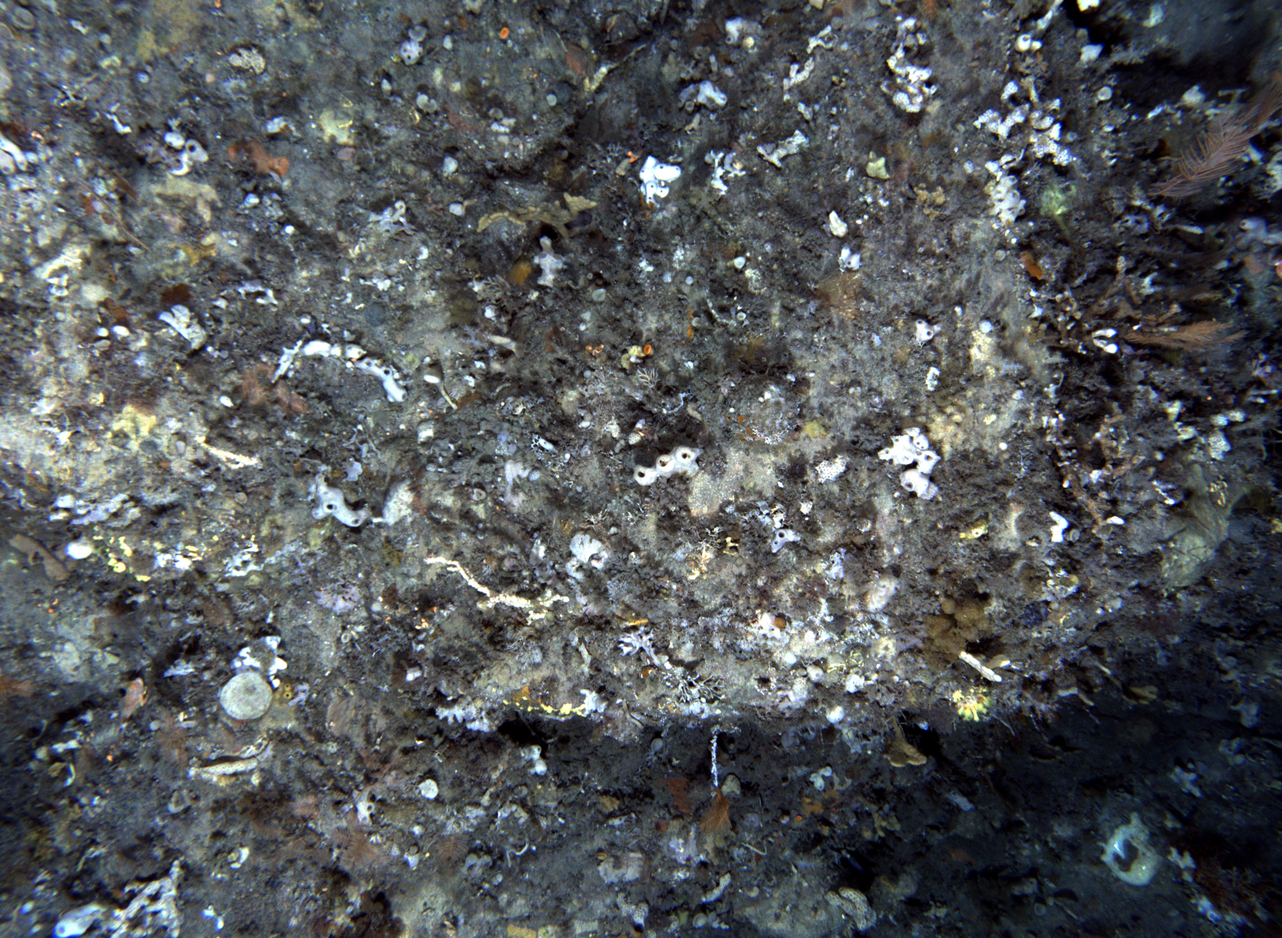Brachionichthyidae: (113, 676, 152, 738)
